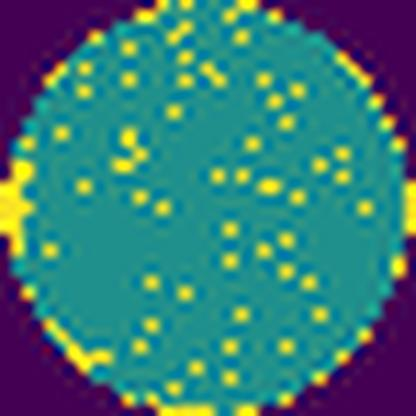Edge-Loc: (0, 159, 34, 272)
